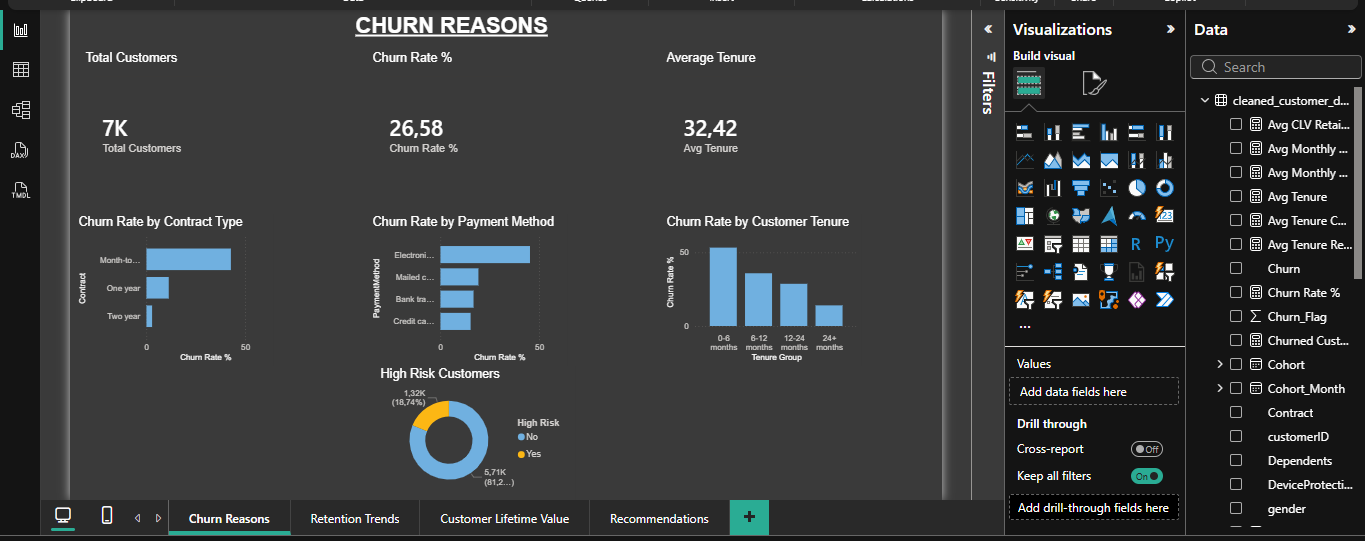

The page's visual inventory and layout, read from the dashboard file:
{"tool":"powerbi","page":{"name":"Churn Reasons","canvas":[1280,720],"ordinal":0},"visuals":[{"type":"textbox","box":[414.9,0,512.3,58.8],"z":0},{"type":"cardVisual","title":"Total Customers","fields":{"Data":["cleaned_customer_data.Total Customers"]},"box":[17.9,58.3,231.5,222.6],"z":1000},{"type":"cardVisual","title":"Churn Rate %","fields":{"Data":["cleaned_customer_data.Churn Rate %"]},"box":[439.2,58.3,231.5,222.6],"z":2000},{"type":"cardVisual","title":"Average Tenure","fields":{"Data":["cleaned_customer_data.Avg Tenure"]},"box":[870.9,58.3,231.5,222.6],"z":3000},{"type":"barChart","title":"Churn Rate by Contract Type","fields":{"Category":["cleaned_customer_data.Contract"],"Y":["cleaned_customer_data.Churn Rate %"]},"box":[7.5,300.2,291.3,222.6],"z":4000},{"type":"barChart","title":"Churn Rate by Payment Method","fields":{"Category":["cleaned_customer_data.PaymentMethod"],"Y":["cleaned_customer_data.Churn Rate %"]},"box":[439.2,300.2,291.3,222.6],"z":5000},{"type":"clusteredColumnChart","title":"Churn Rate by Customer Tenure","fields":{"Category":["cleaned_customer_data.Tenure Group"],"Y":["cleaned_customer_data.Churn Rate %"]},"box":[870.9,300.2,291.3,222.6],"z":6000},{"type":"donutChart","title":"High Risk Customers","fields":{"Category":["cleaned_customer_data.High Risk"],"Y":["CountNonNull(cleaned_customer_data.customerID)"]},"box":[451.1,522.8,291.3,197.2],"z":7000}]}

Visuals, with their boxes on the page's 1280x720 design canvas (x1, y1, x2, y2). These are canvas units, not pixel positions in the 1365x541 screenshot, which may show the page scaled, cropped or inside an application window:
textbox: crop(415, 0, 927, 59)
"Total Customers" cardVisual: crop(18, 58, 249, 281)
"Churn Rate %" cardVisual: crop(439, 58, 671, 281)
"Average Tenure" cardVisual: crop(871, 58, 1102, 281)
"Churn Rate by Contract Type" barChart: crop(8, 300, 299, 523)
"Churn Rate by Payment Method" barChart: crop(439, 300, 730, 523)
"Churn Rate by Customer Tenure" clusteredColumnChart: crop(871, 300, 1162, 523)
"High Risk Customers" donutChart: crop(451, 523, 742, 720)
